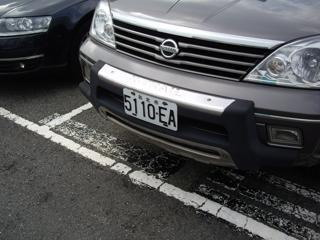plate: (122, 86, 180, 132)
